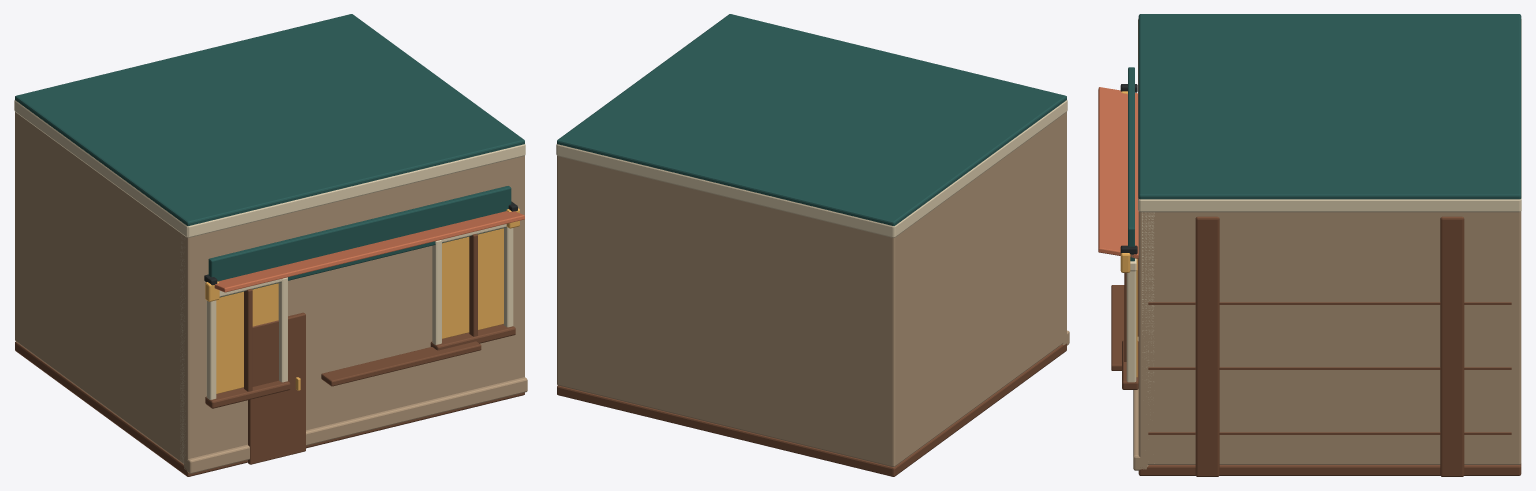
3 renders of one model, left to right at view 1: azimuth 30°, elevation 25°; view 2: azimuth 150°, elevation 25°; view 3: azimuth 270°, elevation 25°, orthographic. The views are drawn at different scales.
Visible parts, largest first — view 1: ClosedSupportingVolume, Roof_RemoveForInteriorReview, NQ-SGN-06, WalnutDoorLeaf, WindowGraphicProxy.001, PlinthBand, CreamRoofCornice, FrontAwning, WindowGraphicProxy, Floor, ServingLedge, CreamSideCornice (+8 smaller); view 2: ClosedSupportingVolume, Roof_RemoveForInteriorReview, Floor, CreamRoofCornice.001, CreamSideCornice; view 3: ClosedSupportingVolume, Roof_RemoveForInteriorReview, SideBrickPilaster.001, SideBrickPilaster, FrontAwning, CreamSideCornice.001, Floor, NQ-SGN-06, WindowJamb.003, ServingLedge, SideMasonryCourse, SideMasonryCourse.001 (+3 smaller).
Part boxes in pixels (x1,y1,x2,y2): ClosedSupportingVolume: (15, 112, 524, 465); Roof_RemoveForInteriorReview: (15, 14, 524, 225); NQ-SGN-06: (208, 186, 511, 297); WalnutDoorLeaf: (248, 312, 305, 464); WindowGraphicProxy.001: (442, 228, 503, 338); PlinthBand: (183, 377, 527, 473); CreamRoofCornice: (188, 144, 525, 237); FrontAwning: (214, 211, 524, 292); WindowGraphicProxy: (216, 283, 278, 393); Floor: (15, 341, 524, 476); ServingLedge: (321, 341, 481, 386); CreamSideCornice: (14, 100, 187, 237); ClosedSupportingVolume: (557, 112, 1066, 466); Roof_RemoveForInteriorReview: (557, 14, 1066, 225); Floor: (557, 343, 1066, 476); CreamRoofCornice.001: (556, 144, 894, 237); CreamSideCornice: (894, 100, 1067, 237); ClosedSupportingVolume: (1138, 212, 1521, 464); Roof_RemoveForInteriorReview: (1138, 14, 1521, 199); SideBrickPilaster.001: (1440, 216, 1464, 476); SideBrickPilaster: (1195, 216, 1219, 476); FrontAwning: (1098, 87, 1138, 258); CreamSideCornice.001: (1139, 199, 1520, 212); Floor: (1138, 463, 1521, 475); NQ-SGN-06: (1128, 67, 1134, 261); WindowJamb.003: (1126, 271, 1136, 382); ServingLedge: (1111, 285, 1124, 370); SideMasonryCourse: (1148, 432, 1511, 434); SideMasonryCourse.001: (1148, 367, 1511, 369).
Size of the model in its own units: 18.12 by 13 by 17.72.
